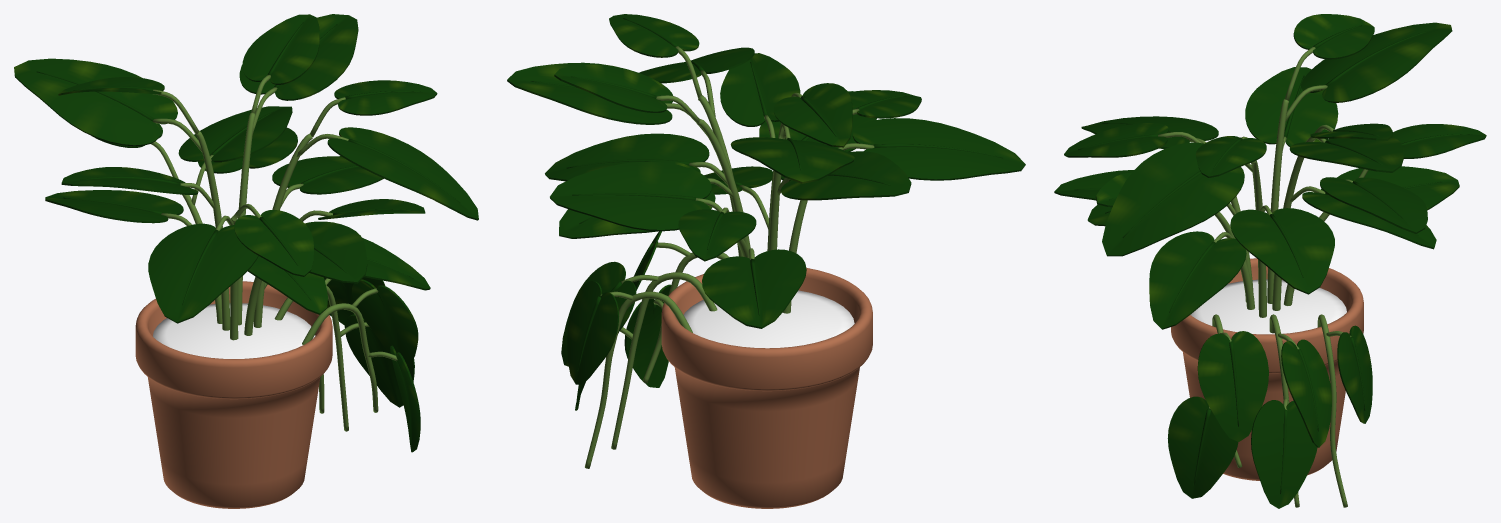
Rendered from plant_shelf.fbx.
3 renders of one model, left to right at view 1: azimuth 30°, elevation 25°; view 2: azimuth 150°, elevation 25°; view 3: azimuth 270°, elevation 25°, orthographic. The views are drawn at different scales.
Visible parts, largest first — view 1: plant_shelf; view 2: plant_shelf; view 3: plant_shelf.
Boxes of the visible parts, bbox=[...] form: plant_shelf: bbox=[14, 14, 478, 508]; plant_shelf: bbox=[507, 14, 1025, 508]; plant_shelf: bbox=[1054, 14, 1486, 508].
Bounding box in the file's own units: 0.2551 × 0.2868 × 0.2863.
